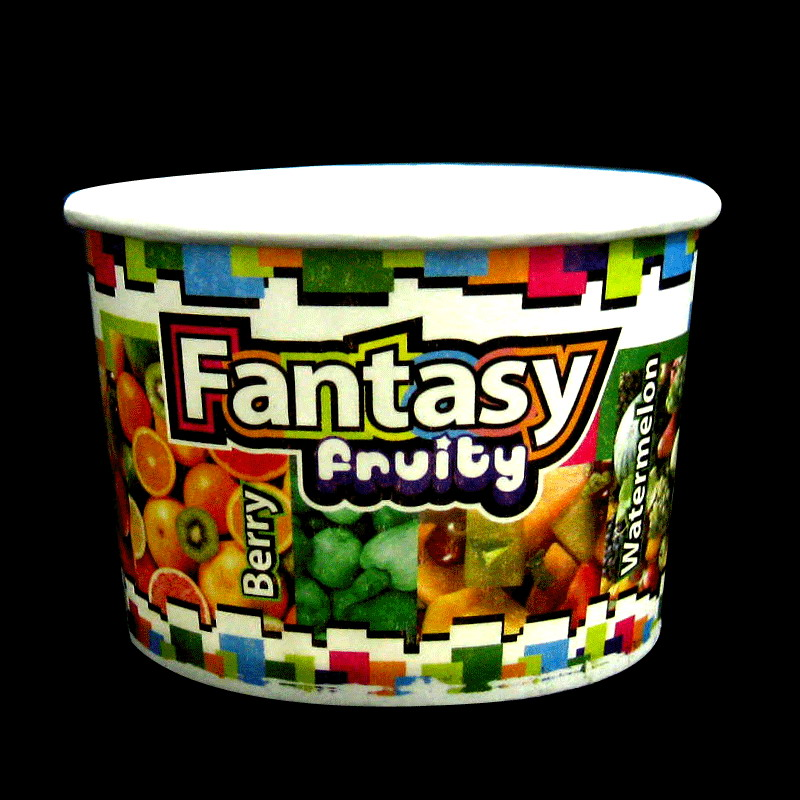PaperCup: (59, 154, 725, 715)
